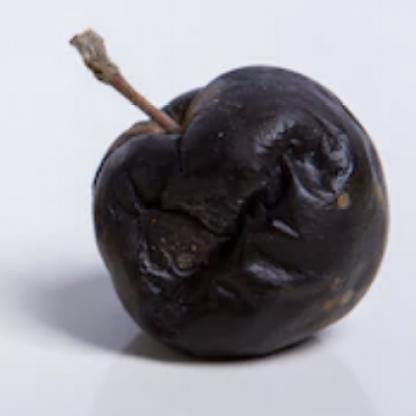Rotten Apple: (94, 69, 393, 362)
